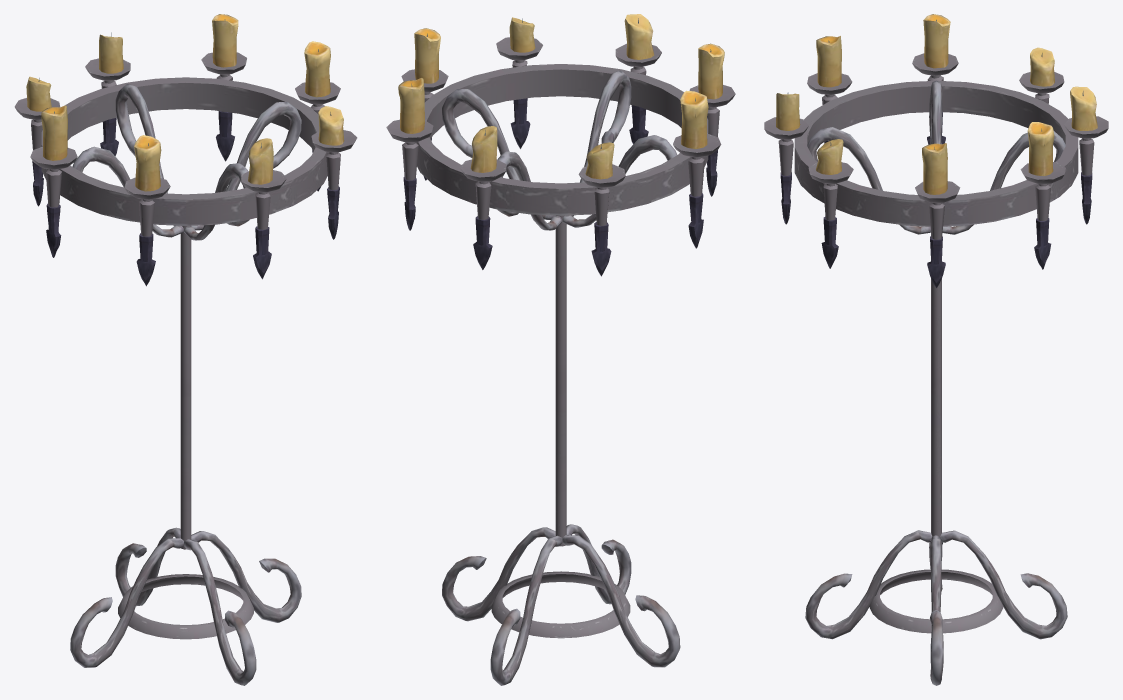
Rendered from CandleStick_Stand.glb.
The picture shows the model from 3 angles, left to right: view 1: azimuth 30°, elevation 25°; view 2: azimuth 150°, elevation 25°; view 3: azimuth 270°, elevation 25°; orthographic projection. The views are drawn at different scales.
Visible parts, largest first — view 1: CandleStick_Stand; view 2: CandleStick_Stand; view 3: CandleStick_Stand.
Part boxes in pixels (<box>): CandleStick_Stand: <box>14,14,357,685</box>; CandleStick_Stand: <box>386,14,735,685</box>; CandleStick_Stand: <box>764,14,1108,685</box>.
Bounding box in the file's own units: 0.7323 × 1.31 × 0.7313.
2 materials, 2 textured.
